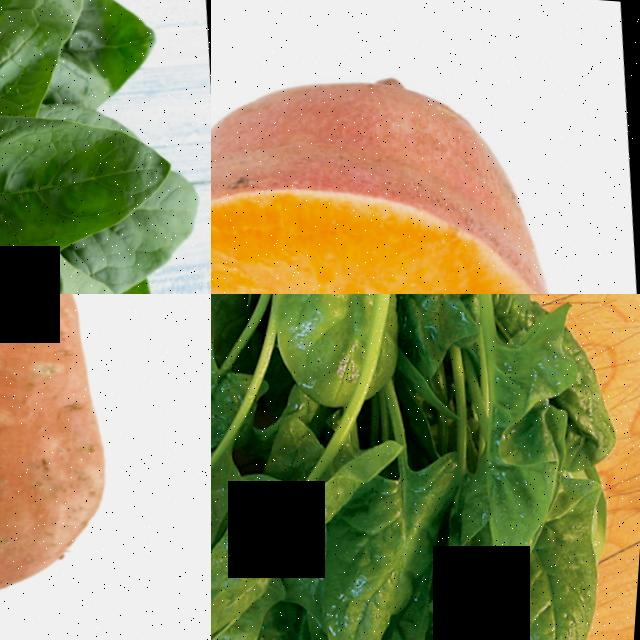spinach: (0, 70, 177, 294), (211, 439, 402, 640), (494, 517, 617, 640), (0, 0, 115, 124), (268, 294, 383, 394)
sweet potato: (211, 30, 607, 294), (0, 445, 133, 618), (0, 294, 121, 478)
tofu: (315, 447, 486, 640)
